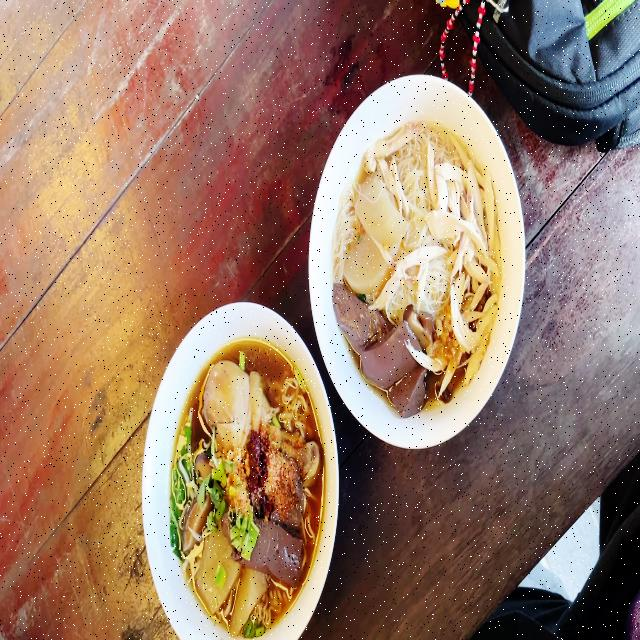boiled_chicken_blood_jelly: (333, 280, 388, 346), (255, 524, 303, 580), (366, 324, 408, 378), (396, 371, 422, 406), (292, 473, 306, 525)
chicken_drumstick: (198, 363, 320, 485)
chicken_shredded: (436, 140, 498, 378), (367, 114, 433, 170)
daikon_radish: (193, 532, 236, 608), (361, 173, 401, 249), (223, 573, 270, 636), (348, 239, 383, 288)
noodle: (336, 115, 502, 412), (168, 336, 325, 626)
